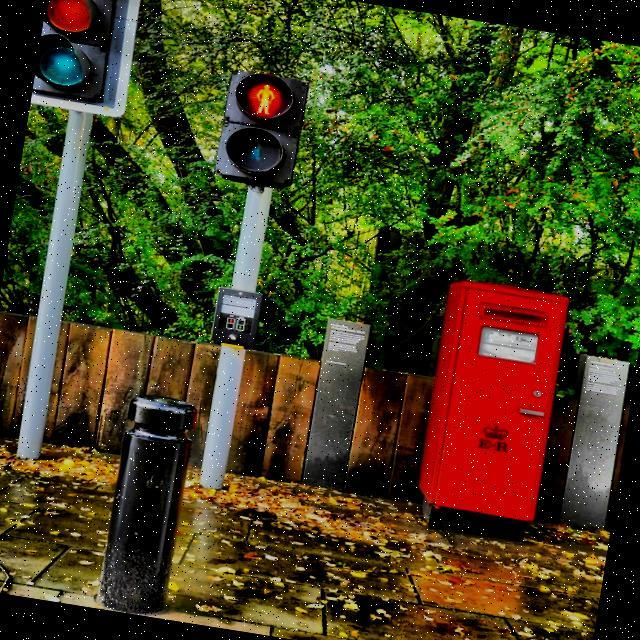red_light: (252, 80, 280, 118)
